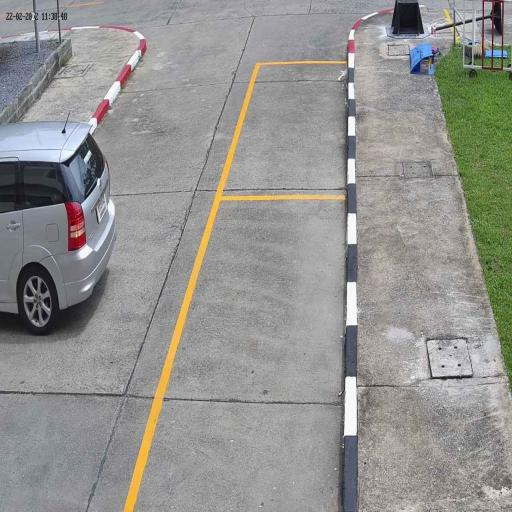car: (0, 121, 117, 331)
